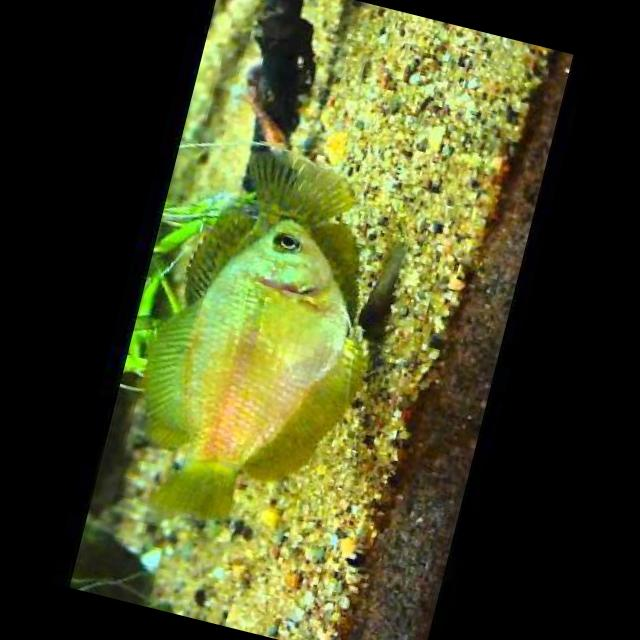Gourami: (107, 194, 396, 552)
